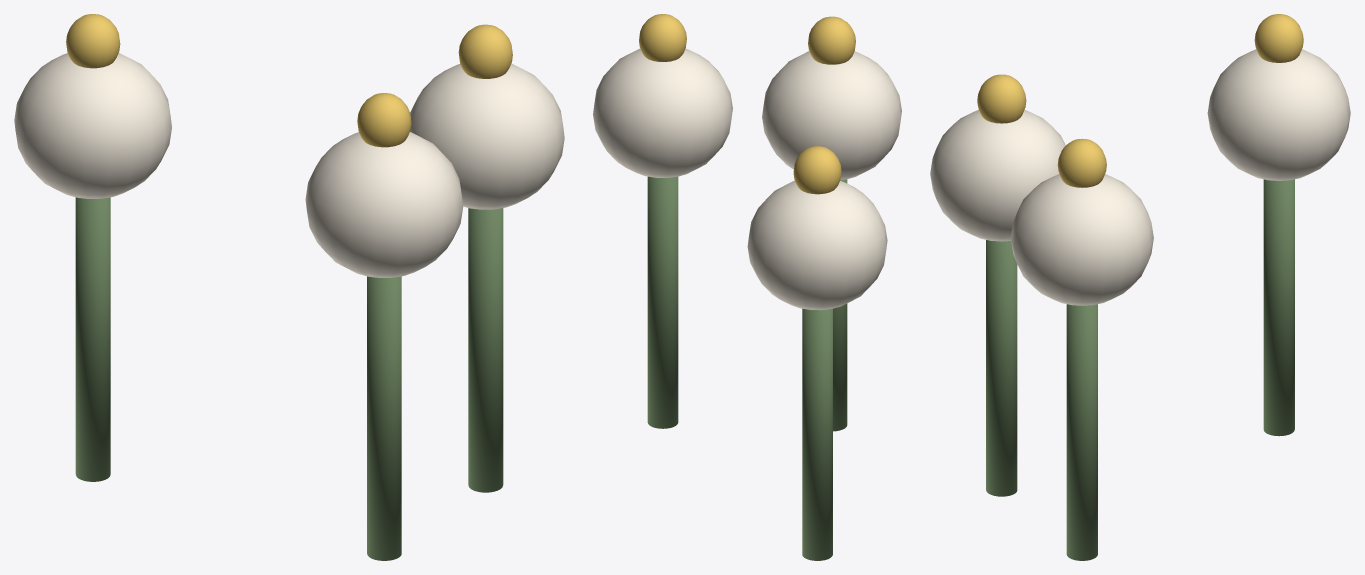
Rendered from flower.daisy-old.glb.
3 views of the same model, side by side, from view 1: azimuth 30°, elevation 25°; view 2: azimuth 150°, elevation 25°; view 3: azimuth 270°, elevation 25° (orthographic). The views are drawn at different scales.
Parts seen in each view (by area): view 1: stem; view 2: stem; view 3: stem.
Boxes of the visible parts, x1,y1,x2,y2 form: stem: (14,14,564,560); stem: (593,14,901,560); stem: (930,14,1350,560).
Bounding box in the file's own units: 0.49 × 0.51 × 0.47.
